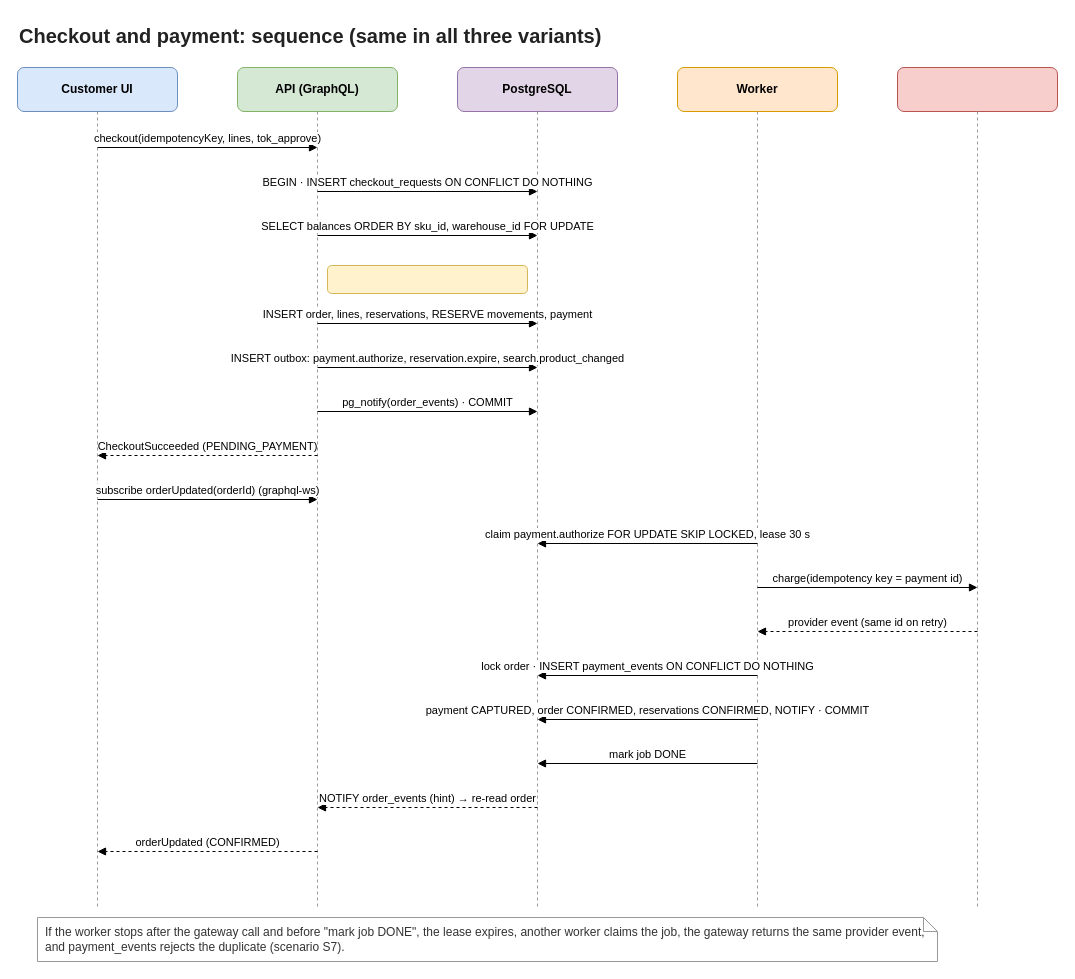
The diagram is 1075 pixels wide and 979 high, and some of its shapes have lost their labels. Here are the shapes that lost their labels. From the top down, the centre of each, then its label:
At (977,89): "Simulated gateway".
At (427,279): "allocateOrder() — @ofl/domain".
